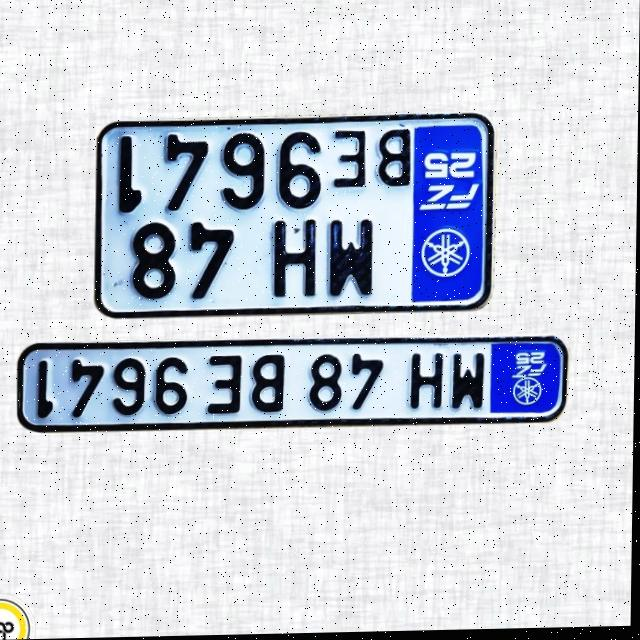plate: (94, 113, 493, 318), (16, 332, 574, 439)
